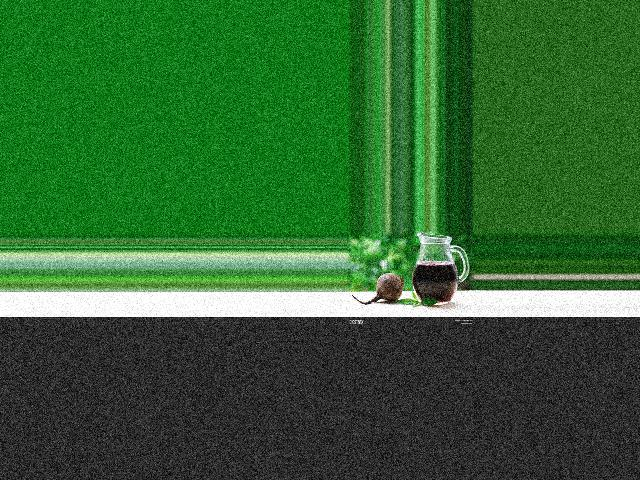beet: (352, 273, 404, 305)
